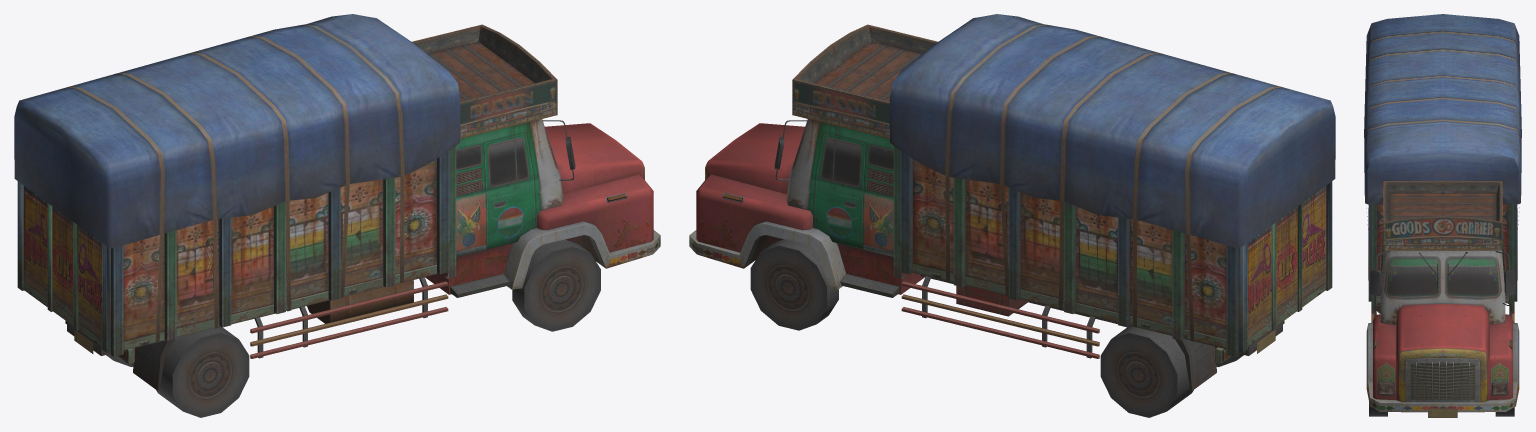
Rendered from sf_truck_01.glb.
The picture shows the model from 3 angles, left to right: view 1: azimuth 30°, elevation 25°; view 2: azimuth 150°, elevation 25°; view 3: azimuth 270°, elevation 25°; orthographic projection. The views are drawn at different scales.
Visible parts, largest first — view 1: Traffic_Truck_01_Body, Traffic_Truck_Wheel_Rear_R_Traffic_Truck_Component_0, Traffic_Truck_Wheel_Front__R_Traffic_Truck_Component_0; view 2: Traffic_Truck_01_Body, Traffic_Truck_Wheel_Rear_L_Traffic_Truck_Component_0, Traffic_Truck_Wheel_Front__L_Traffic_Truck_Component_0; view 3: Traffic_Truck_01_Body, Traffic_Truck_01_Light.
Boxes of the visible parts, x1,y1,x2,y2 form: Traffic_Truck_01_Body: (14,14,660,390); Traffic_Truck_Wheel_Rear_R_Traffic_Truck_Component_0: (156,327,249,417); Traffic_Truck_Wheel_Front__R_Traffic_Truck_Component_0: (512,239,600,331); Traffic_Truck_01_Body: (689,14,1335,390); Traffic_Truck_Wheel_Rear_L_Traffic_Truck_Component_0: (1100,325,1193,417); Traffic_Truck_Wheel_Front__L_Traffic_Truck_Component_0: (750,239,838,330); Traffic_Truck_01_Body: (1364,14,1521,417); Traffic_Truck_01_Light: (1378,383,1507,394).
Size of the model in its own units: 7.41 by 3.72 by 2.28.
3 materials, 3 textured.
